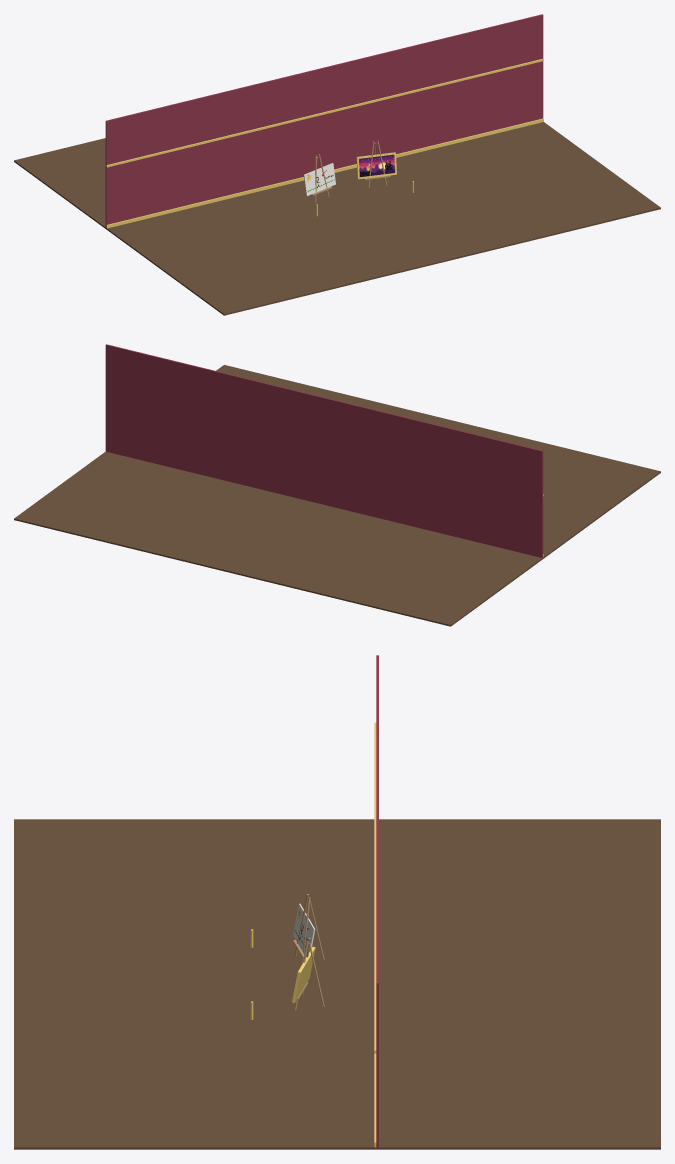
File: gallery.glb
3 views of the same model, one above another, from view 1: azimuth 30°, elevation 25°; view 2: azimuth 150°, elevation 25°; view 3: azimuth 270°, elevation 25° (orthographic). The views are drawn at different scales.
Parts seen in each view (by area): view 1: Floor, Wall, Skirting, Rail, leg_l.001, leg_l; view 2: Floor, Wall; view 3: Floor, Wall, Rail, leg_l, leg_l.001.
Boxes of the visible parts, bbox=[...] form: Floor: bbox=[14, 122, 660, 315]; Wall: bbox=[105, 14, 543, 227]; Skirting: bbox=[106, 118, 543, 228]; Rail: bbox=[106, 58, 543, 167]; leg_l.001: bbox=[356, 140, 396, 187]; leg_l: bbox=[303, 154, 335, 202]; Floor: bbox=[14, 365, 660, 626]; Wall: bbox=[105, 344, 543, 557]; Floor: bbox=[14, 819, 660, 1149]; Wall: bbox=[376, 655, 378, 1147]; Rail: bbox=[374, 722, 376, 1053]; leg_l: bbox=[293, 894, 324, 964]; leg_l.001: bbox=[292, 937, 324, 1010].
Bounding box in the file's own units: 60 × 14.2 × 50.
Materials: 7 (2 with a texture image).
